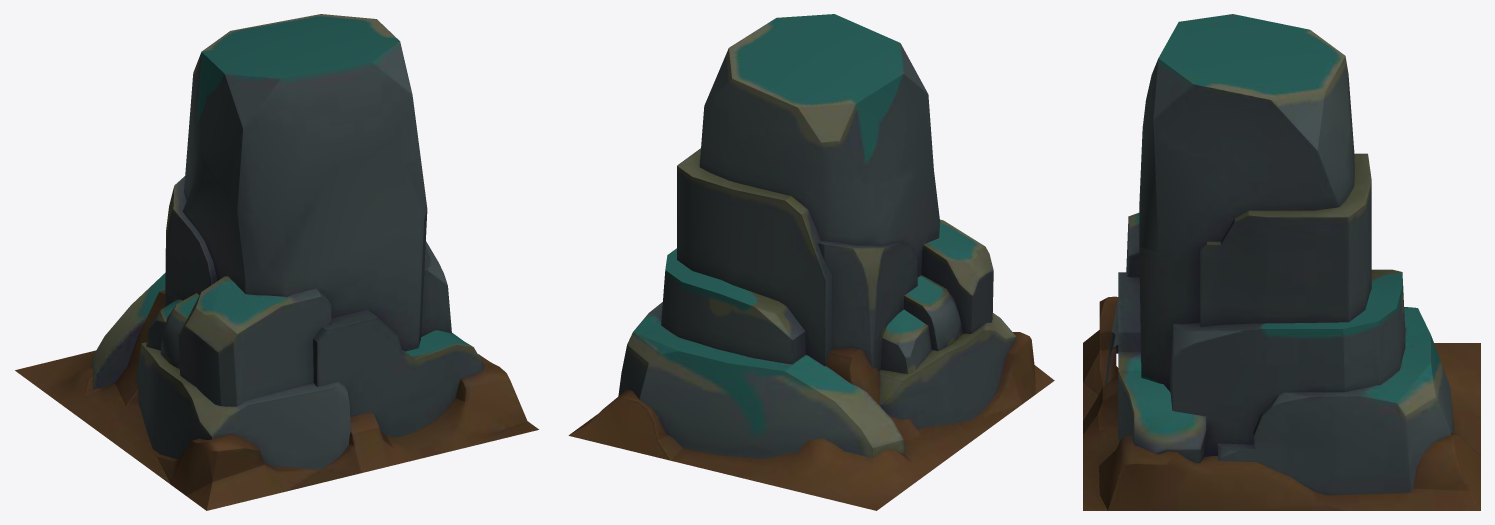
Rendered from OBJ_Mountain_03.obj.
The picture shows the model from 3 angles, left to right: view 1: azimuth 30°, elevation 25°; view 2: azimuth 150°, elevation 25°; view 3: azimuth 270°, elevation 25°; orthographic projection. The views are drawn at different scales.
Visible parts, largest first — view 1: OBJ_Mountain_03; view 2: OBJ_Mountain_03; view 3: OBJ_Mountain_03.
Boxes of the visible parts, <box> form: OBJ_Mountain_03: <box>15,14,538,510</box>; OBJ_Mountain_03: <box>568,14,1054,510</box>; OBJ_Mountain_03: <box>1083,14,1480,510</box>.
Bounding box in the file's own units: 3.6 × 4.01 × 3.6.
Materials: 1 (1 with a texture image).
